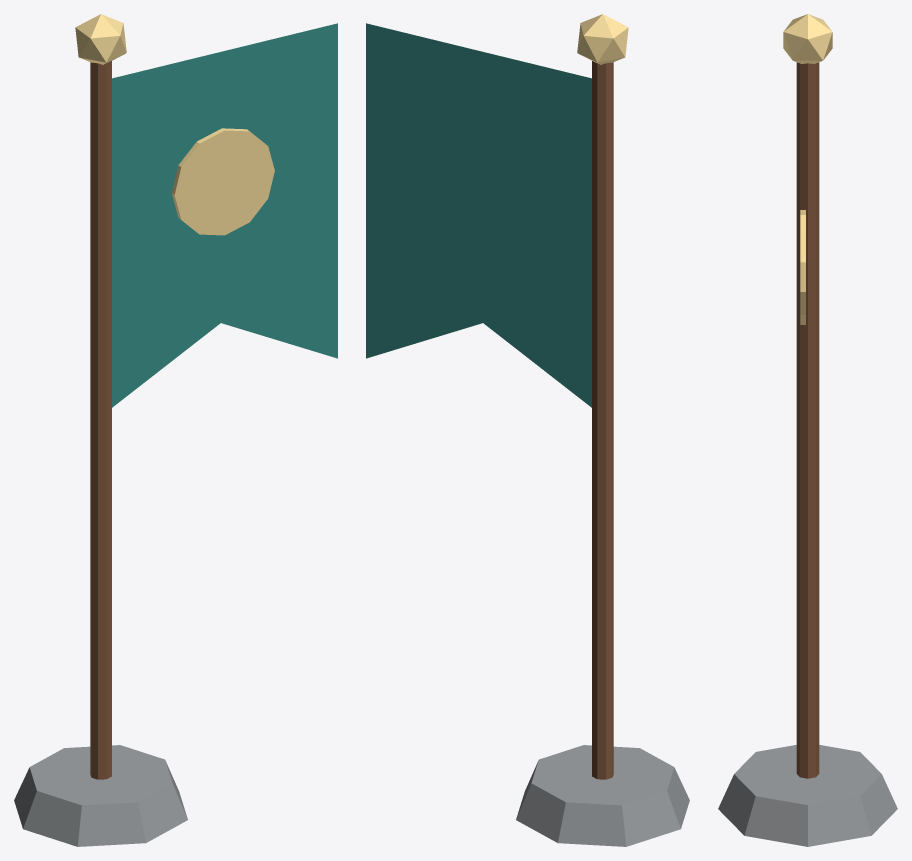
Rendered from banner_flag.glb.
The picture shows the model from 3 angles, left to right: view 1: azimuth 30°, elevation 25°; view 2: azimuth 150°, elevation 25°; view 3: azimuth 270°, elevation 25°; orthographic projection.
Parts seen in each view (by area): view 1: banner, pole, foot, emblem, finial; view 2: banner, pole, foot, finial; view 3: pole, foot, finial, emblem.
Part boxes in pixels (bbox=[...]): banner: bbox=[112, 23, 337, 407]; pole: bbox=[90, 61, 111, 779]; foot: bbox=[14, 745, 187, 846]; emblem: bbox=[171, 128, 274, 235]; finial: bbox=[75, 14, 126, 64]; banner: bbox=[366, 23, 591, 407]; pole: bbox=[592, 61, 613, 779]; foot: bbox=[516, 745, 689, 846]; finial: bbox=[577, 14, 628, 64]; pole: bbox=[796, 62, 819, 778]; foot: bbox=[718, 745, 897, 846]; finial: bbox=[783, 14, 832, 63]; emblem: bbox=[800, 210, 805, 324].
Bounding box in the file's own units: 1.13 × 2.73 × 0.56.
